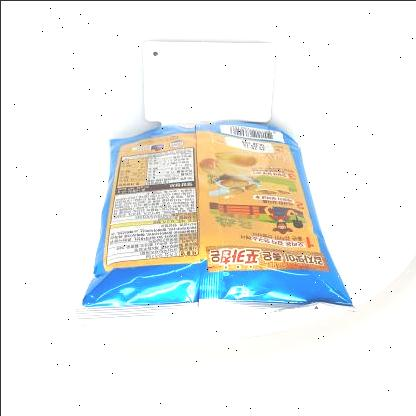Others: (61, 100, 359, 336)
